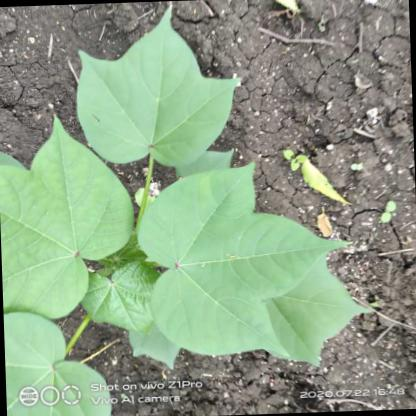cotton: (142, 171, 382, 370), (66, 5, 250, 180), (0, 113, 146, 328)
